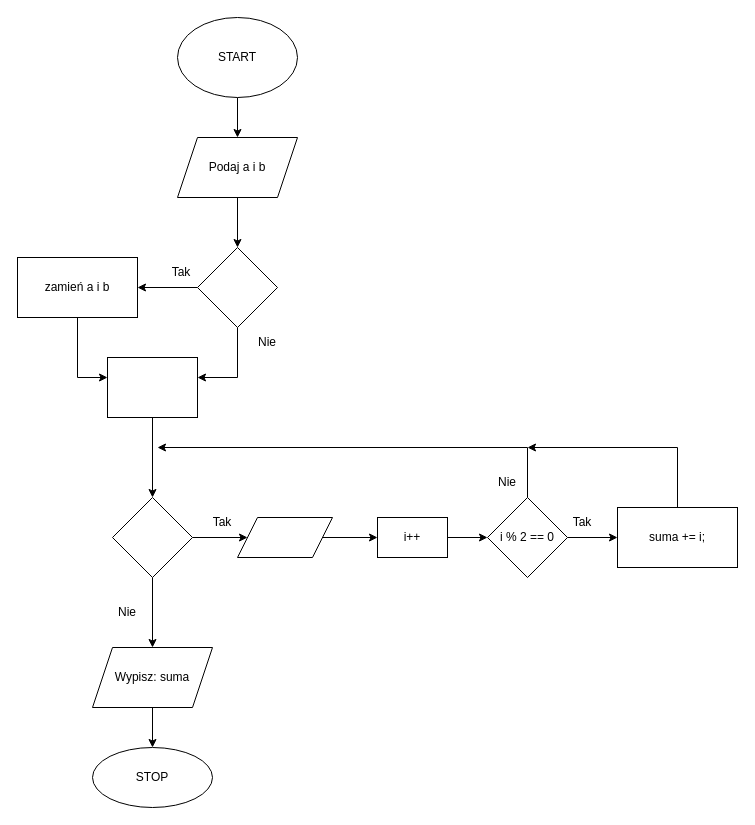
Image size: 755x825. Some labels were removed from this diagram. Here are the shapes that lost their labels. From the top down, the box of each, then its label:
(196, 246, 278, 328): a > b
(106, 356, 198, 418): int suma = 0; int i = a;
(112, 496, 192, 578): i <= b
(236, 516, 332, 558): Wypisz: i
